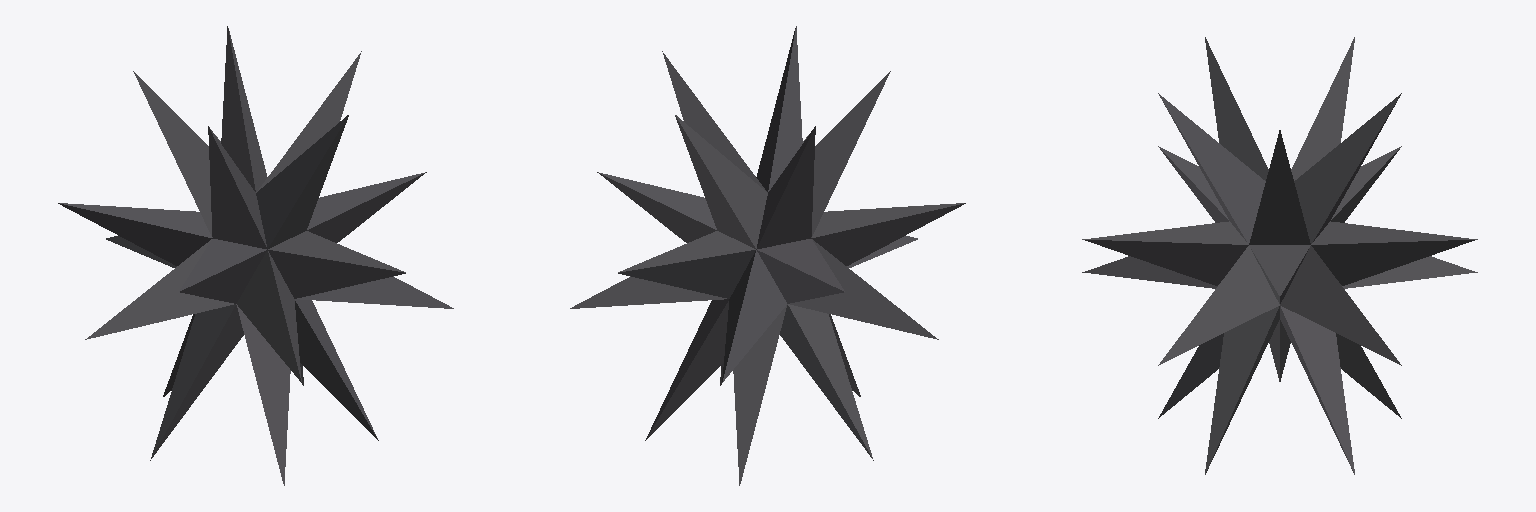
Rendered from Star3.obj.
The picture shows the model from 3 angles: view 1: azimuth 30°, elevation 25°; view 2: azimuth 150°, elevation 25°; view 3: azimuth 270°, elevation 25°; orthographic projection.
Parts seen in each view (by area): view 1: Flash1; view 2: Flash1; view 3: Flash1.
Part boxes in pixels (x1,y1,x2,y2): Flash1: (58,26,453,485); Flash1: (570,26,965,485); Flash1: (1082,37,1477,474).
Bounding box in the file's own units: 9.87 × 9.87 × 9.87.